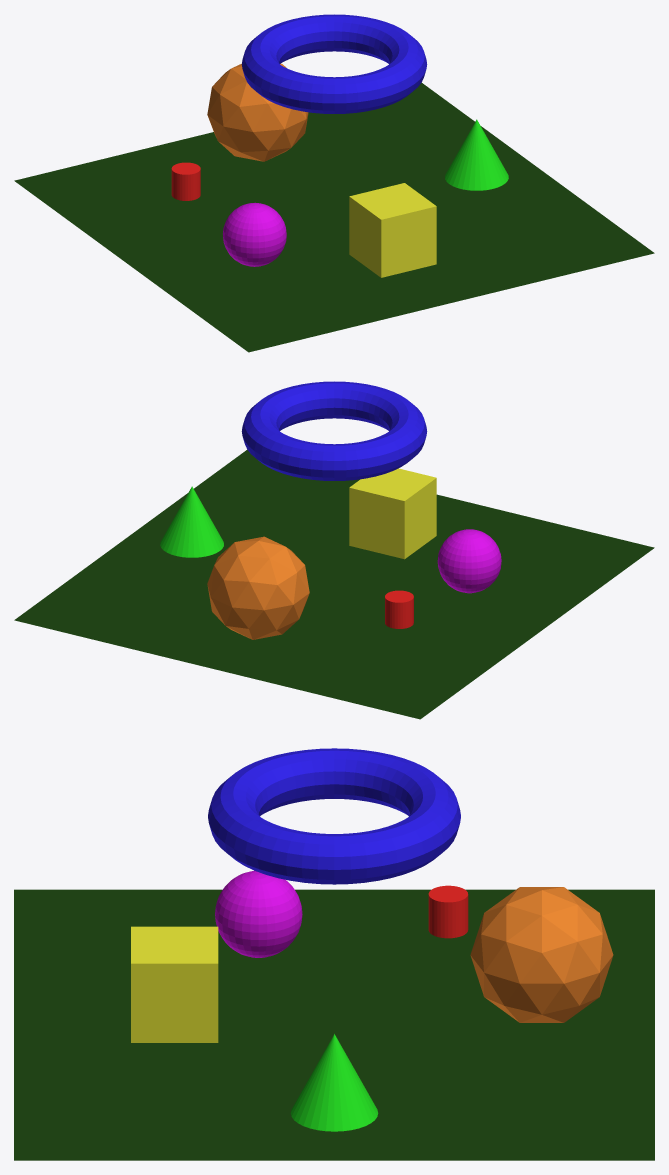
The model's file is simpleScene.glb.
3 renders of one model, top to bottom at view 1: azimuth 30°, elevation 25°; view 2: azimuth 150°, elevation 25°; view 3: azimuth 270°, elevation 25°, orthographic. The views are drawn at different scales.
Parts seen in each view (by area): view 1: Plane, Torus, Cube, Icosphere, Sphere, Cone, Cylinder; view 2: Plane, Torus, Icosphere, Cube, Sphere, Cone, Cylinder; view 3: Plane, Torus, Icosphere, Cube, Sphere, Cone, Cylinder.
Boxes of the visible parts, x1,y1,x2,y2 form: Plane: [14, 82, 654, 352]; Torus: [241, 14, 427, 113]; Cube: [349, 183, 436, 277]; Icosphere: [207, 63, 308, 161]; Sphere: [223, 202, 286, 266]; Cone: [445, 119, 508, 190]; Cylinder: [171, 162, 200, 200]; Plane: [14, 449, 654, 719]; Torus: [241, 381, 427, 480]; Icosphere: [207, 536, 309, 639]; Cube: [349, 468, 436, 559]; Sphere: [437, 529, 501, 593]; Cone: [160, 486, 223, 557]; Cylinder: [385, 590, 413, 628]; Plane: [14, 889, 654, 1160]; Torus: [208, 748, 460, 884]; Icosphere: [470, 887, 613, 1022]; Cube: [131, 926, 218, 1042]; Sphere: [215, 870, 302, 957]; Cone: [290, 1034, 378, 1131]; Cylinder: [428, 885, 468, 938].
Bounding box in the file's own units: 14.64 × 5.85 × 14.64.
